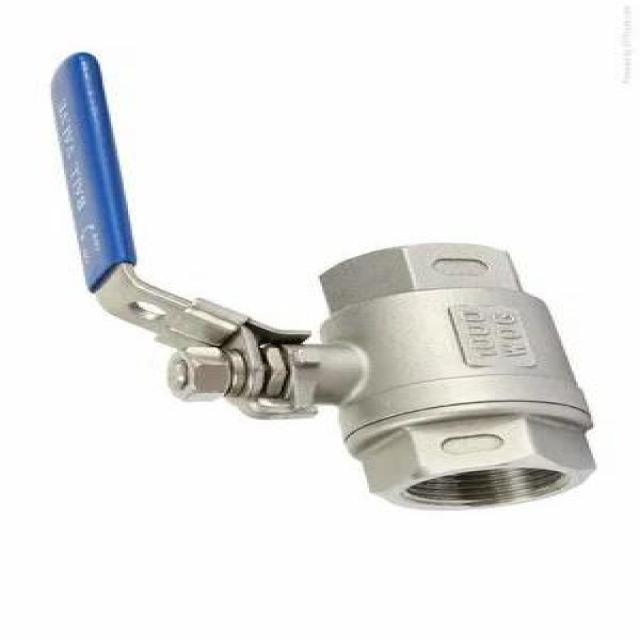opened_valve: (41, 48, 602, 511)
